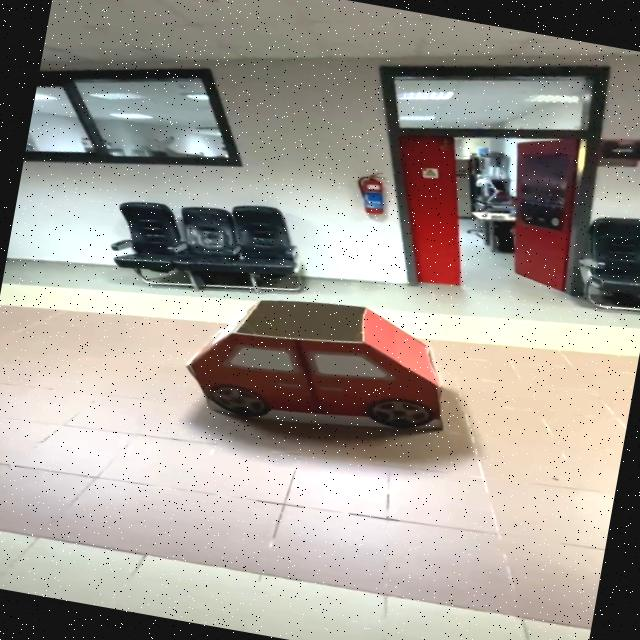red_car: (171, 275, 482, 465)
